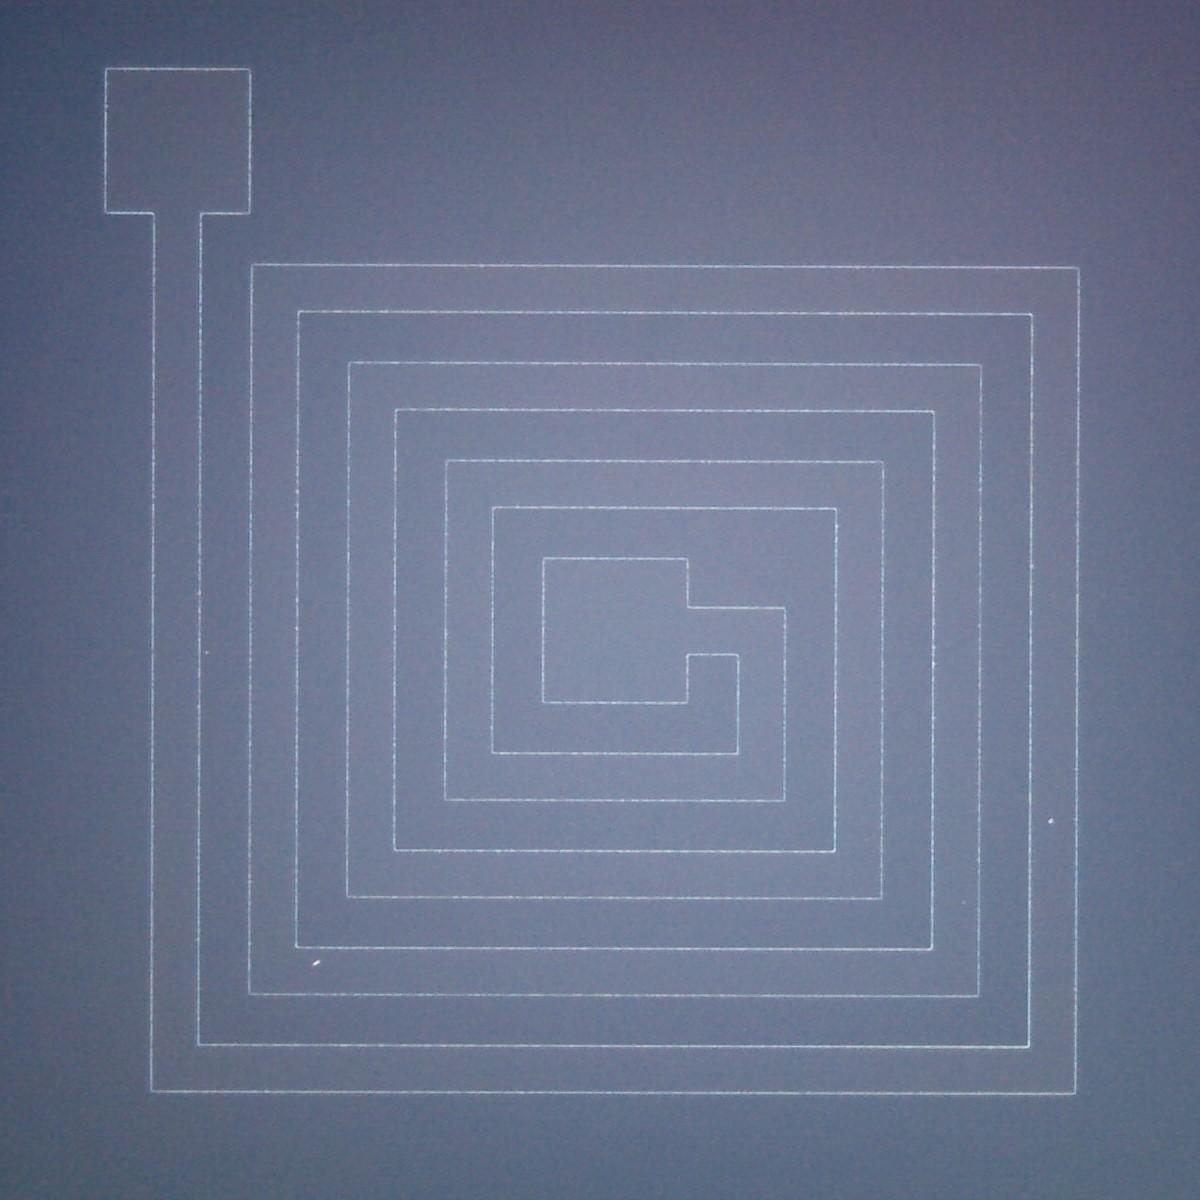B_point: (309, 957, 324, 969)
s_point: (1042, 814, 1058, 829), (958, 898, 969, 908), (202, 648, 212, 658)
